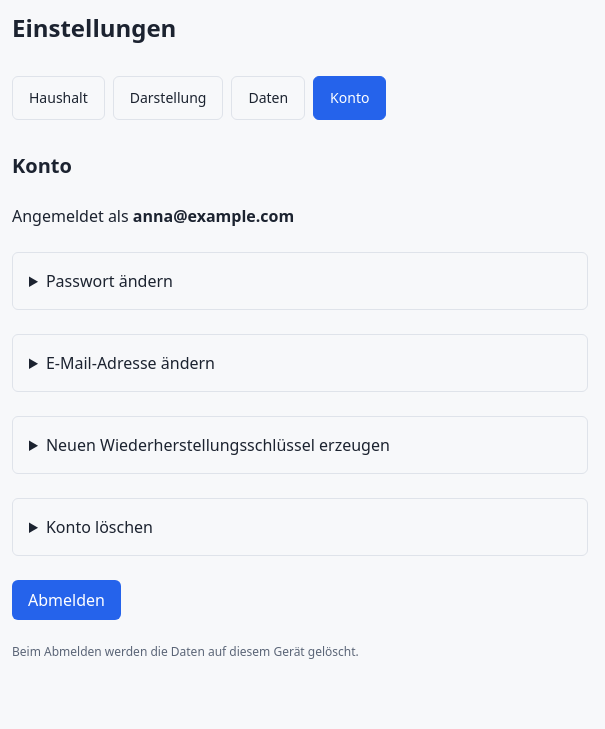
Scenario: Einstellungen: Passwort und E-Mail (Issue #187, #188) › AK-2: ungleiche neue Passwörter ändern nichts
Expected: the heading "Konto" is shown, [12, 152, 72, 179]
Click the heading "Passwort ändern" at coordinates (109, 281), box [46, 270, 173, 292]
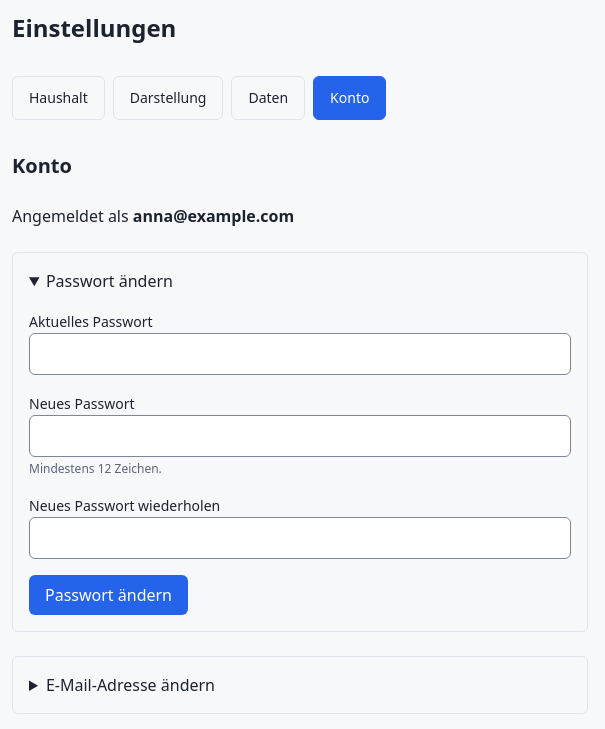
Type "Altes-Passwort-123" into the password field labelled "Aktuelles Passwort" at coordinates (300, 354), box [29, 333, 571, 375]
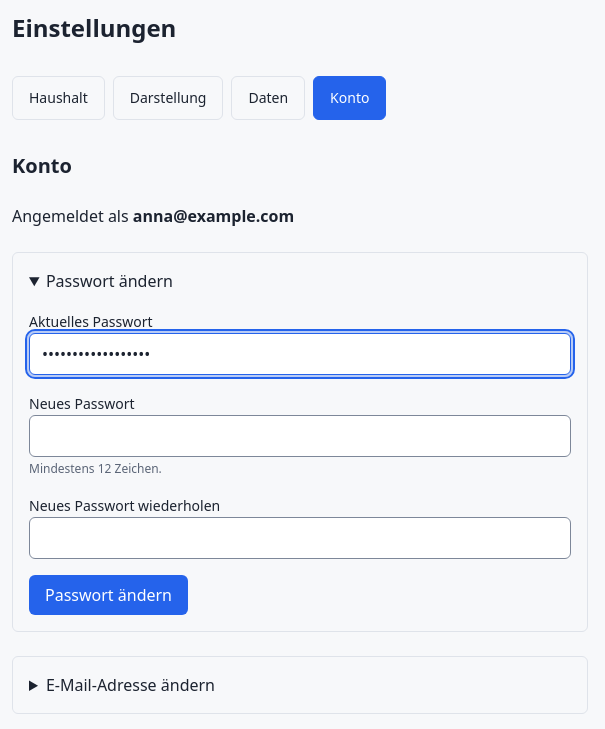
Type "Neues-Passwort-456" into the password field labelled "Neues Passwort" at coordinates (300, 436), box [29, 415, 571, 457]
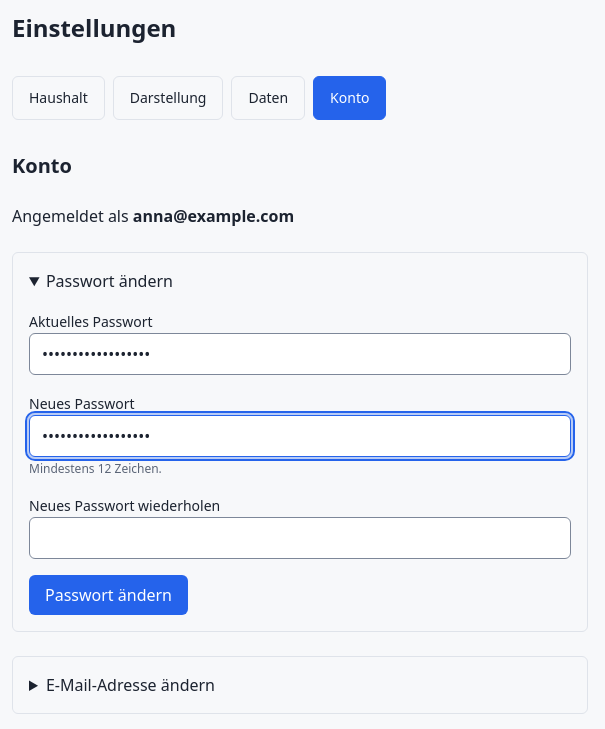
Type "Anderes-Passwort-789" into the password field labelled "Neues Passwort wiederholen" at coordinates (300, 538), box [29, 517, 571, 559]
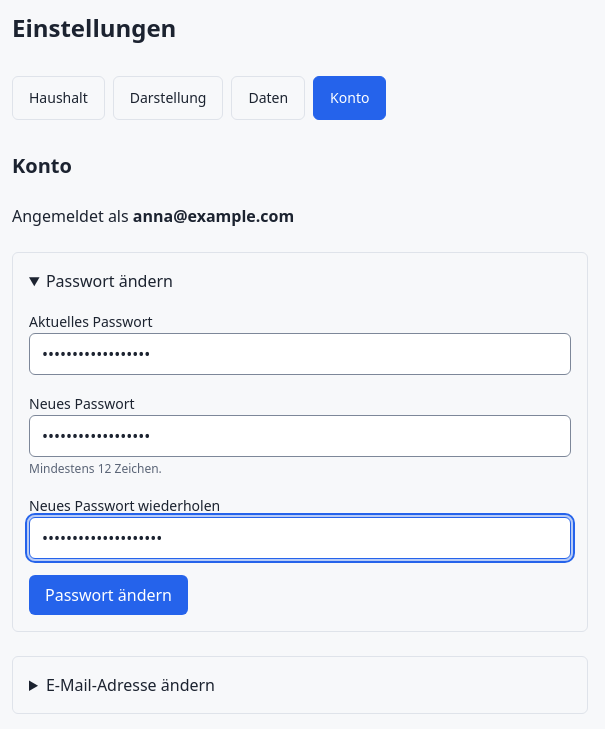
Click the button "Passwort ändern" at coordinates (108, 595), box [29, 575, 188, 615]
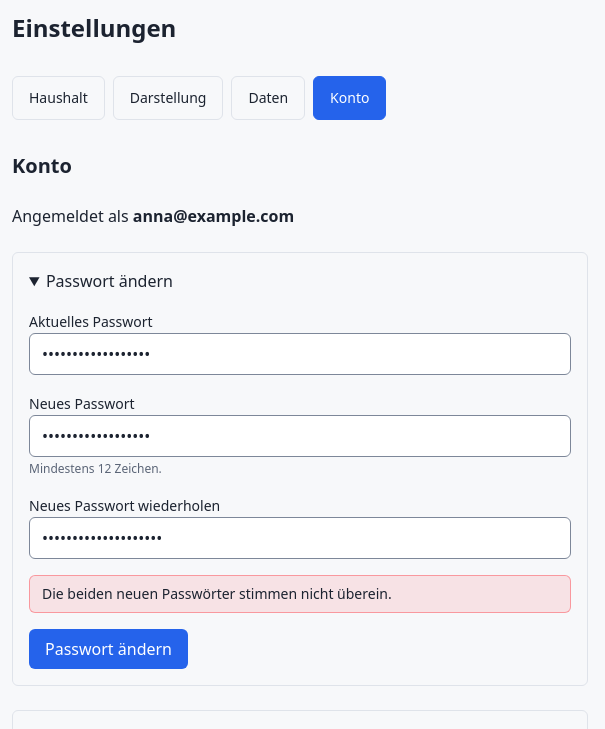
Expected: the message reads "Die beiden neuen Passwörter stimmen nicht überein.", [42, 584, 392, 603]
